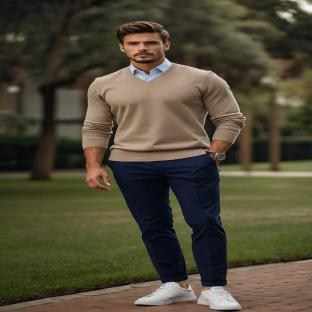Human: (82, 21, 245, 310)
